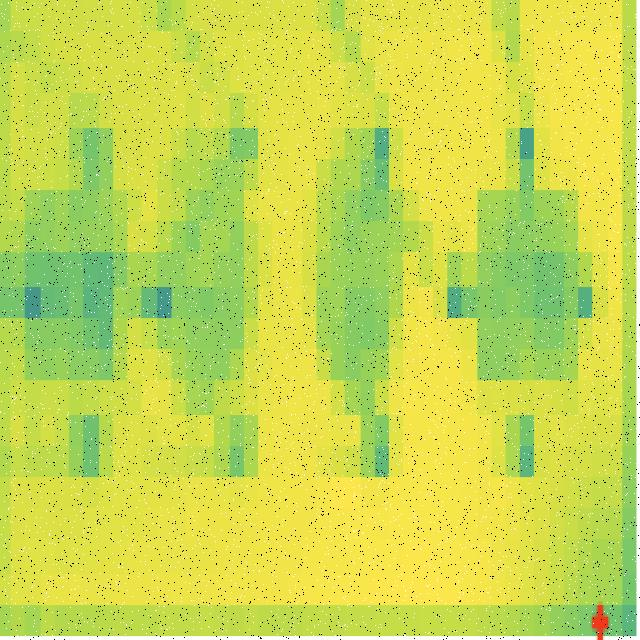Concrete: (319, 162, 420, 408)
Glass: (161, 165, 263, 386)
Metal: (472, 190, 580, 386)
Wood: (23, 190, 128, 388)
